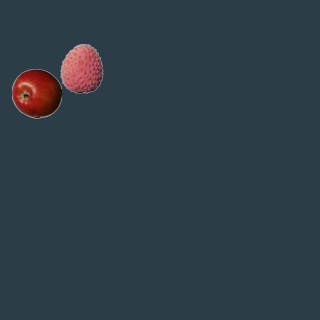Apple Braeburn: (11, 68, 61, 118)
Lychee: (56, 43, 106, 93)
